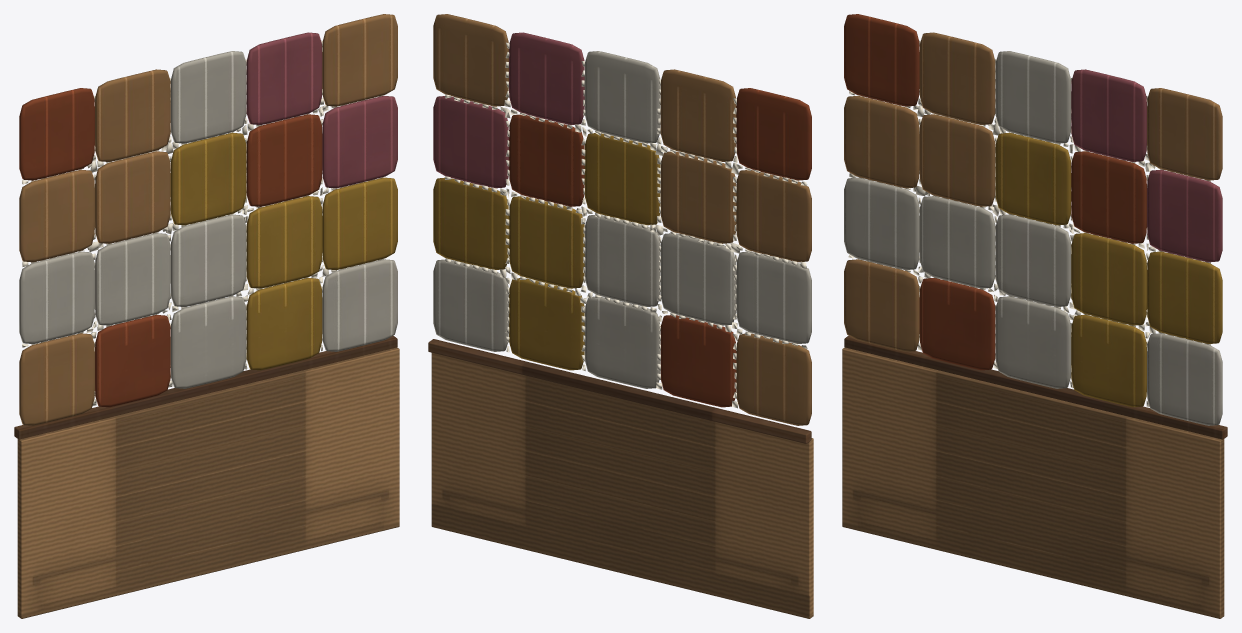
File: wall_quilt_warm.glb
3 views of the same model, side by side, from view 1: azimuth 30°, elevation 25°; view 2: azimuth 150°, elevation 25°; view 3: azimuth 330°, elevation 25° (orthographic).
Visible parts, largest first — view 1: wall_quilt_warm_wood, wall_quilt_warm_felt_ivory, wall_quilt_warm_felt_tan, wall_quilt_warm_felt_mustard, wall_quilt_warm_felt_rust, wall_quilt_warm_felt_rose, wall_quilt_warm_wood_dark, wall_quilt_warm_thread; view 2: wall_quilt_warm_wood, wall_quilt_warm_felt_ivory, wall_quilt_warm_felt_tan, wall_quilt_warm_felt_mustard, wall_quilt_warm_felt_rust, wall_quilt_warm_felt_rose, wall_quilt_warm_thread, wall_quilt_warm_wood_dark; view 3: wall_quilt_warm_wood, wall_quilt_warm_felt_ivory, wall_quilt_warm_felt_tan, wall_quilt_warm_felt_mustard, wall_quilt_warm_felt_rust, wall_quilt_warm_felt_rose, wall_quilt_warm_wood_dark, wall_quilt_warm_thread.
Part boxes in pixels (bbox=[...]): wall_quilt_warm_wood: bbox=[17, 347, 399, 618]; wall_quilt_warm_felt_ivory: bbox=[19, 51, 397, 388]; wall_quilt_warm_felt_tan: bbox=[19, 14, 397, 425]; wall_quilt_warm_felt_mustard: bbox=[170, 132, 397, 370]; wall_quilt_warm_felt_rust: bbox=[19, 88, 322, 407]; wall_quilt_warm_felt_rose: bbox=[246, 32, 397, 188]; wall_quilt_warm_wood_dark: bbox=[14, 335, 397, 439]; wall_quilt_warm_thread: bbox=[22, 40, 383, 405]; wall_quilt_warm_wood: bbox=[431, 353, 813, 618]; wall_quilt_warm_felt_ivory: bbox=[433, 51, 811, 388]; wall_quilt_warm_felt_tan: bbox=[433, 14, 811, 425]; wall_quilt_warm_felt_mustard: bbox=[433, 133, 660, 370]; wall_quilt_warm_felt_rust: bbox=[509, 88, 811, 407]; wall_quilt_warm_felt_rose: bbox=[433, 32, 584, 188]; wall_quilt_warm_thread: bbox=[445, 42, 807, 408]; wall_quilt_warm_wood_dark: bbox=[428, 339, 811, 443]; wall_quilt_warm_wood: bbox=[842, 347, 1224, 618]; wall_quilt_warm_felt_ivory: bbox=[844, 51, 1222, 425]; wall_quilt_warm_felt_tan: bbox=[844, 32, 1222, 351]; wall_quilt_warm_felt_mustard: bbox=[995, 132, 1222, 407]; wall_quilt_warm_felt_rust: bbox=[844, 14, 1146, 370]; wall_quilt_warm_felt_rose: bbox=[1071, 69, 1222, 262]; wall_quilt_warm_wood_dark: bbox=[844, 335, 1227, 439]; wall_quilt_warm_thread: bbox=[848, 40, 1210, 406].
Bounding box in the file's own units: 4 × 5.19 × 0.14.
Materials: 8 (7 with a texture image).
